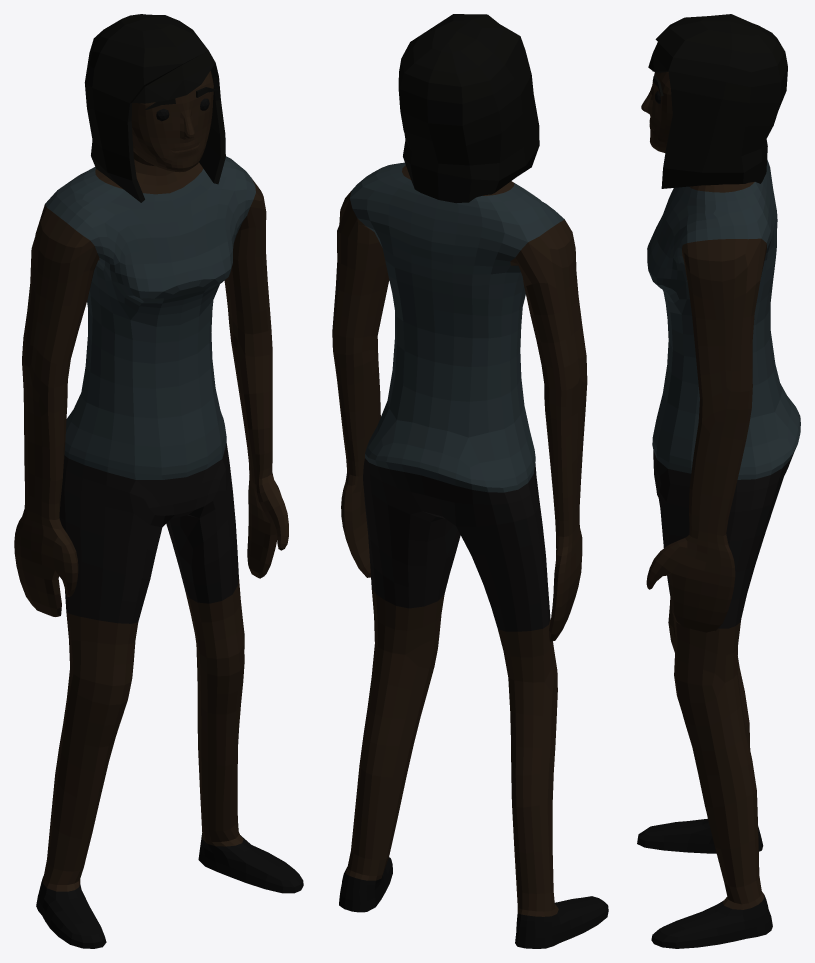
File: Smooth_Female_TankTop.obj
The picture shows the model from 3 angles, left to right: view 1: azimuth 30°, elevation 25°; view 2: azimuth 150°, elevation 25°; view 3: azimuth 270°, elevation 25°; orthographic projection. The views are drawn at different scales.
Visible parts, largest first — view 1: BaseHuman.000_Cylinder.000; view 2: BaseHuman.000_Cylinder.000; view 3: BaseHuman.000_Cylinder.000.
Part boxes in pixels (<box>): BaseHuman.000_Cylinder.000: <box>14,14,303,948</box>; BaseHuman.000_Cylinder.000: <box>332,14,608,948</box>; BaseHuman.000_Cylinder.000: <box>637,14,800,948</box>.
Size of the model in its own units: 1.37 by 4.65 by 0.7968.
